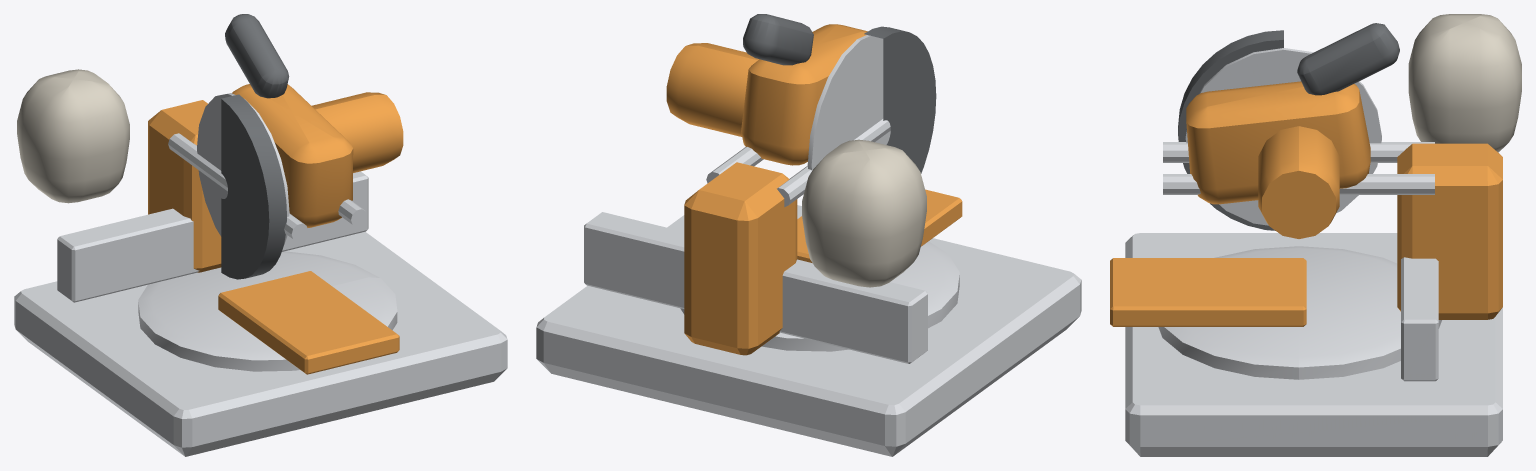
3 views of the same model, side by side, from view 1: azimuth 30°, elevation 25°; view 2: azimuth 150°, elevation 25°; view 3: azimuth 270°, elevation 25° (orthographic). The views are drawn at different scales.
Parts seen in each view (by area): view 1: mitre-saw; view 2: mitre-saw; view 3: mitre-saw.
Boxes of the visible parts, x1=… form: mitre-saw: x1=14, y1=14, x2=507, y2=456; mitre-saw: x1=536, y1=14, x2=1081, y2=456; mitre-saw: x1=1110, y1=14, x2=1521, y2=456.
Size of the model in its own units: 0.56 by 0.5184 by 0.545.
